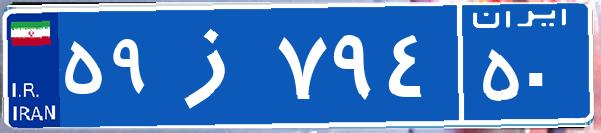0: (525, 38, 570, 115)
4: (385, 28, 445, 110)
5: (57, 26, 110, 107), (475, 38, 525, 113)
7: (273, 28, 330, 110)
9: (330, 28, 385, 110), (110, 28, 158, 105)
ز: (158, 15, 273, 115)
